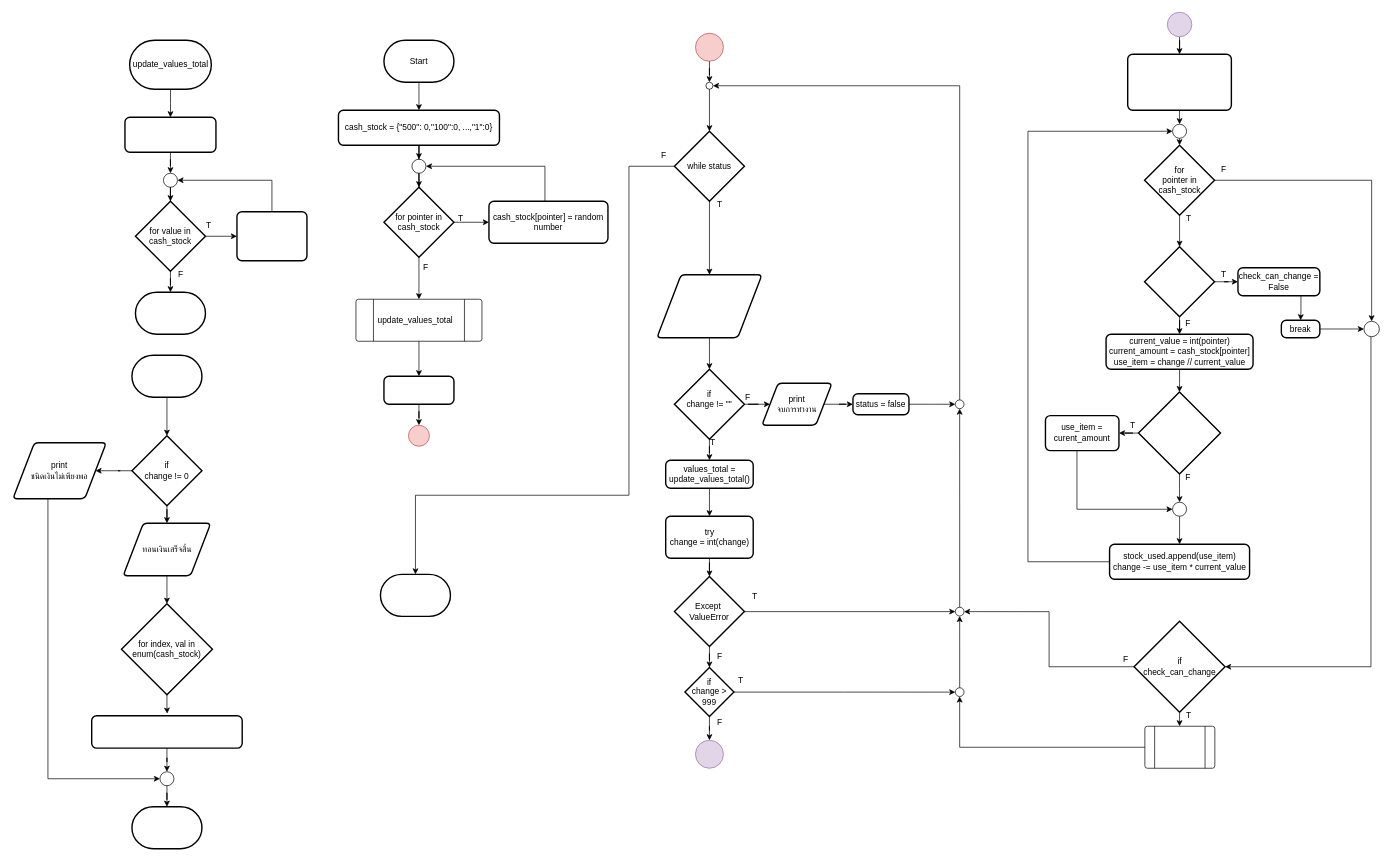
Image size: 1392x862. Some labels were removed from this diagram. Here are the shapes that lost their labels. From the top down, the box of each, then its label:
(1127, 53, 1232, 111): stock_used_val = 0 show_change = change stock_used = [] check_can_change = True
(124, 116, 216, 153): values_total = 0
(236, 211, 307, 261): values_total += cash_stock[value] * int(value)
(1144, 246, 1215, 317): if change > values_total
(134, 291, 206, 335): return values_total
(656, 274, 762, 338): change = input number for change
(131, 354, 202, 398): show_result
(383, 375, 454, 405): status = True
(1137, 391, 1221, 474): if use_item > current_amount
(379, 573, 451, 617): stop
(91, 715, 243, 748): cash_stock[val] = cash_stock[val] - stock_used[index]
(1144, 726, 1215, 768): show_result()
(131, 806, 202, 849): return
